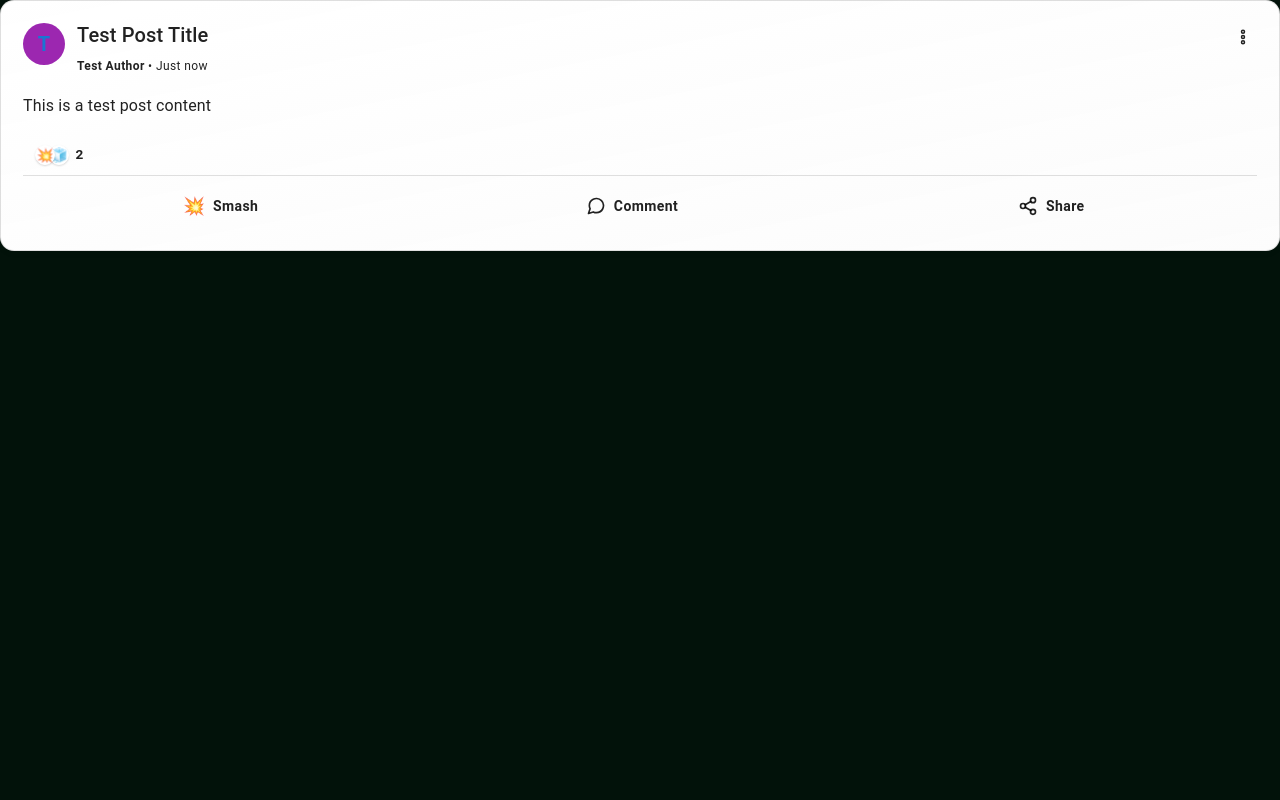
Test: PostCard Component QA Tests › renders view-reactions-btn and opens Who Reacted modal on click
Click the button with test id "view-reactions-btn" at (59, 155), box [31, 142, 87, 167]
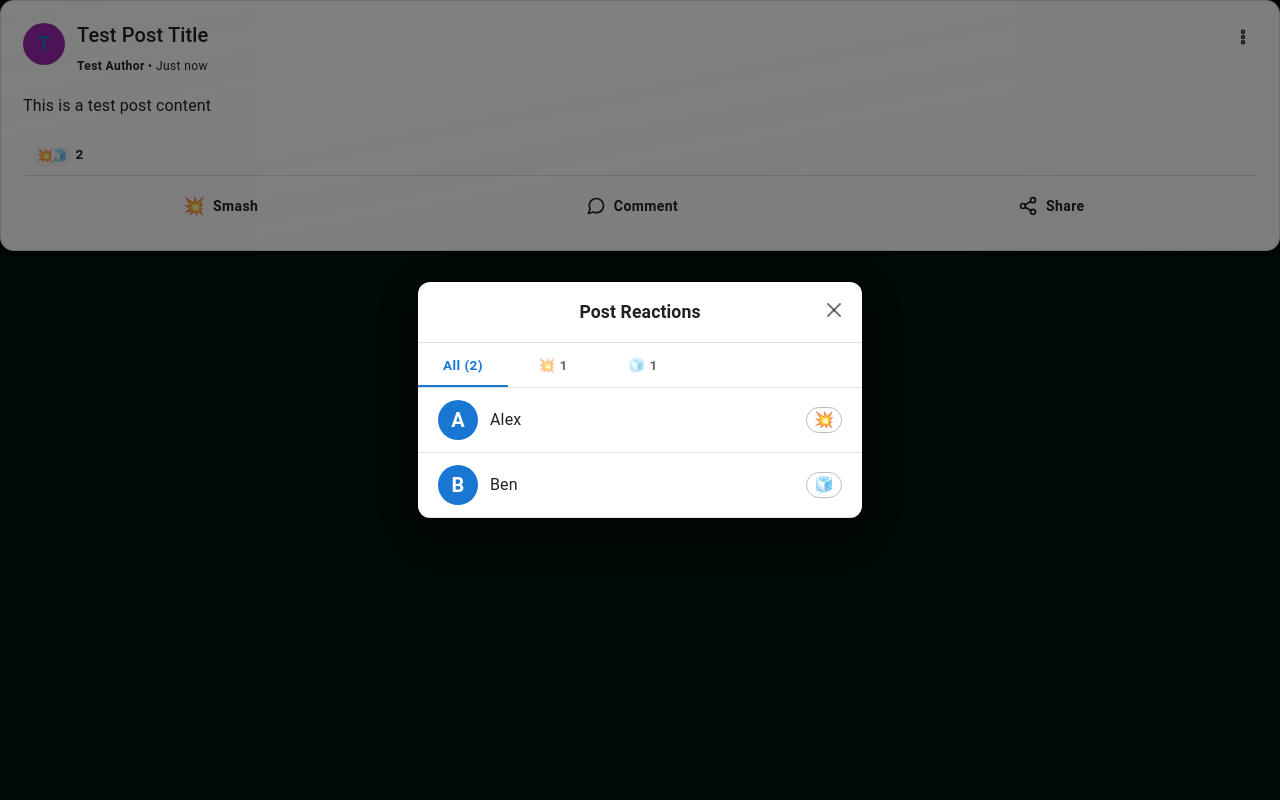
Now the element with test id "likes-modal" is shown
Now the heading "Post Reactions" is shown, box [418, 282, 862, 343]
